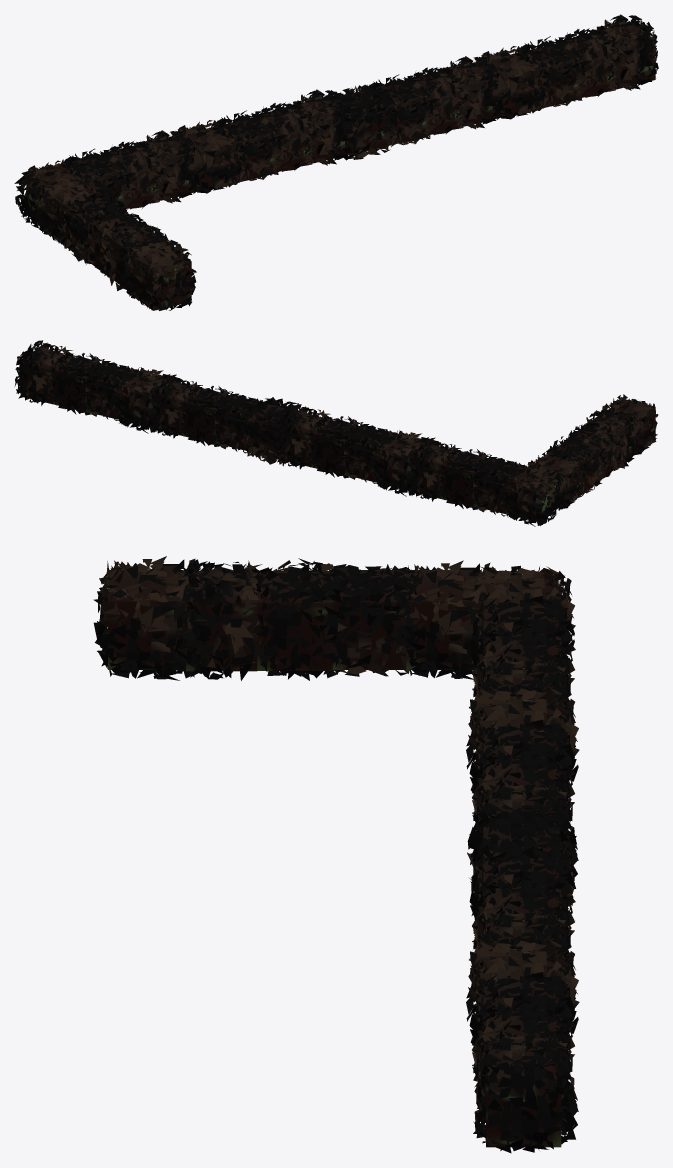
Rendered from level3longhedge 1.fbx.
3 views of the same model, one above another, from view 1: azimuth 30°, elevation 25°; view 2: azimuth 150°, elevation 25°; view 3: azimuth 270°, elevation 25° (orthographic). The views are drawn at different scales.
Parts seen in each view (by area): view 1: Cube.083, Cube.021, Cube.013, Cube.029, Cube.035, Cube.031, Cube.015, Cube.019, Cube.033, Cube.017, Cube.023, Cube.025 (+30 smaller); view 2: Cube.005, Cube.021, Cube.029, Cube.013, Cube.035, Cube.007, Cube.019, Cube.015, Cube.031, Cube.023, Cube.017, Cube.033 (+30 smaller); view 3: Cube.035, Cube.083, Cube.077, Cube.081, Cube.075, Cube.079, Cube.029, Cube.013, Cube.021, Cube.080, Cube.017, Cube.007 (+15 smaller).
Part boxes in pixels (x1,y1,x2,y2): Cube.083: [120, 239, 196, 310]; Cube.021: [321, 84, 396, 160]; Cube.013: [171, 120, 243, 193]; Cube.029: [474, 46, 547, 119]; Cube.035: [595, 14, 658, 90]; Cube.031: [515, 36, 588, 108]; Cube.015: [212, 110, 285, 182]; Cube.019: [293, 89, 354, 165]; Cube.033: [555, 28, 621, 100]; Cube.017: [251, 102, 318, 174]; Cube.023: [366, 74, 436, 147]; Cube.025: [404, 67, 469, 137]; Cube.005: [503, 464, 567, 526]; Cube.021: [241, 397, 301, 466]; Cube.029: [112, 367, 180, 433]; Cube.013: [371, 430, 438, 496]; Cube.035: [14, 340, 73, 405]; Cube.007: [467, 458, 525, 516]; Cube.019: [273, 404, 332, 469]; Cube.015: [337, 425, 396, 483]; Cube.031: [79, 362, 137, 420]; Cube.023: [208, 395, 265, 453]; Cube.017: [308, 415, 369, 478]; Cube.033: [50, 352, 110, 415]; Cube.035: [473, 1034, 578, 1153]; Cube.083: [93, 556, 206, 680]; Cube.077: [319, 564, 422, 676]; Cube.081: [178, 559, 267, 680]; Cube.075: [401, 560, 495, 679]; Cube.079: [250, 558, 347, 680]; Cube.029: [466, 938, 579, 1046]; Cube.013: [466, 686, 579, 793]; Cube.021: [467, 807, 576, 910]; Cube.080: [257, 571, 332, 670]; Cube.017: [472, 741, 570, 823]; Cube.007: [469, 596, 575, 697].
Size of the model in its own units: 1052 by 100 by 415.
2 materials, 2 textured.
